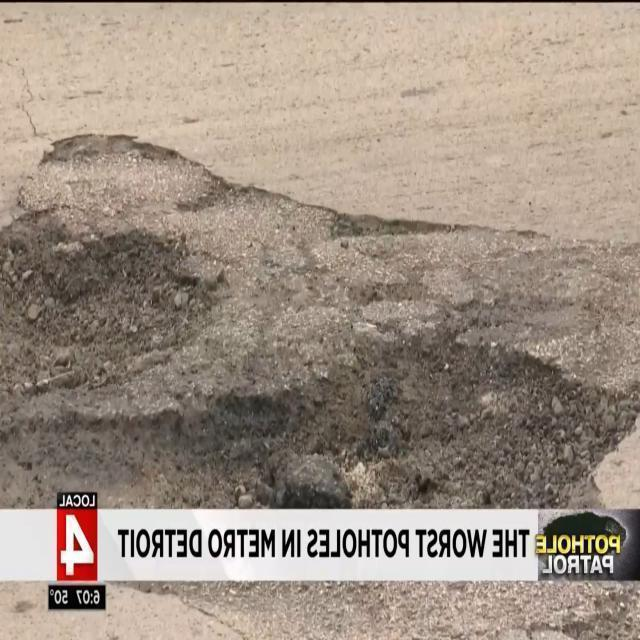Pothole: (6, 134, 637, 511)
